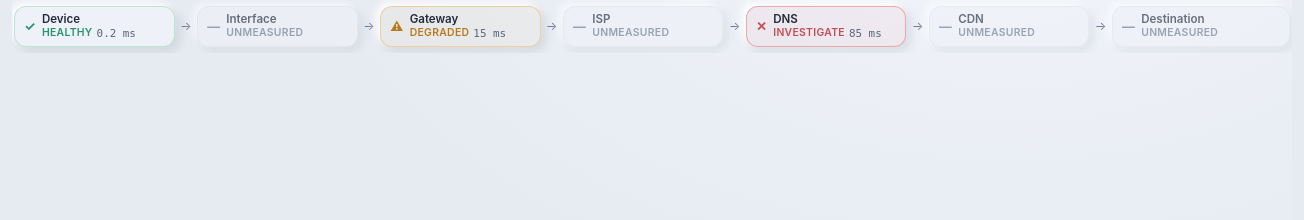
it: DiagnosticChainStrip › opens inspector drawer when a stage is clicked and displays measurement_state badge and sub-ms latency
Click the button with aria-label "Device Stack" at (94, 26), box top-left (14, 6), bottom-right (175, 47)
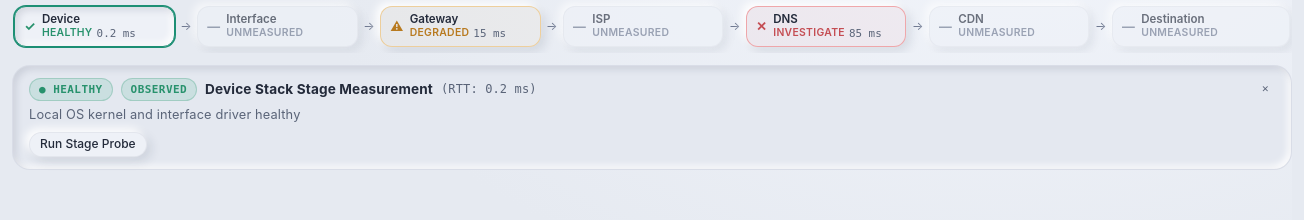
Check: the button with aria-label "Device Stack" is expanded, box top-left (14, 6), bottom-right (175, 47)
Check: the element named "Inspection details for Device Stack" is shown, box top-left (12, 65), bottom-right (1292, 170)
Check: the text "Observed" is shown, box top-left (121, 78), bottom-right (197, 101)
// Click on Router stage (inferred, 15.4 ms)
Click the button with aria-label "Gateway Hop" at (460, 26), box top-left (380, 6), bottom-right (540, 47)
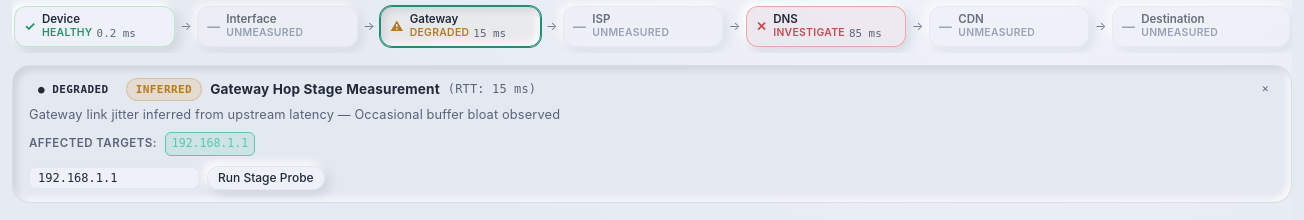
Check: the text with test id "stage-measurement-badge" reads "Inferred", box top-left (136, 83), bottom-right (192, 96)
Check: the text "(RTT: 15 ms)" is shown, box top-left (448, 80), bottom-right (536, 99)
